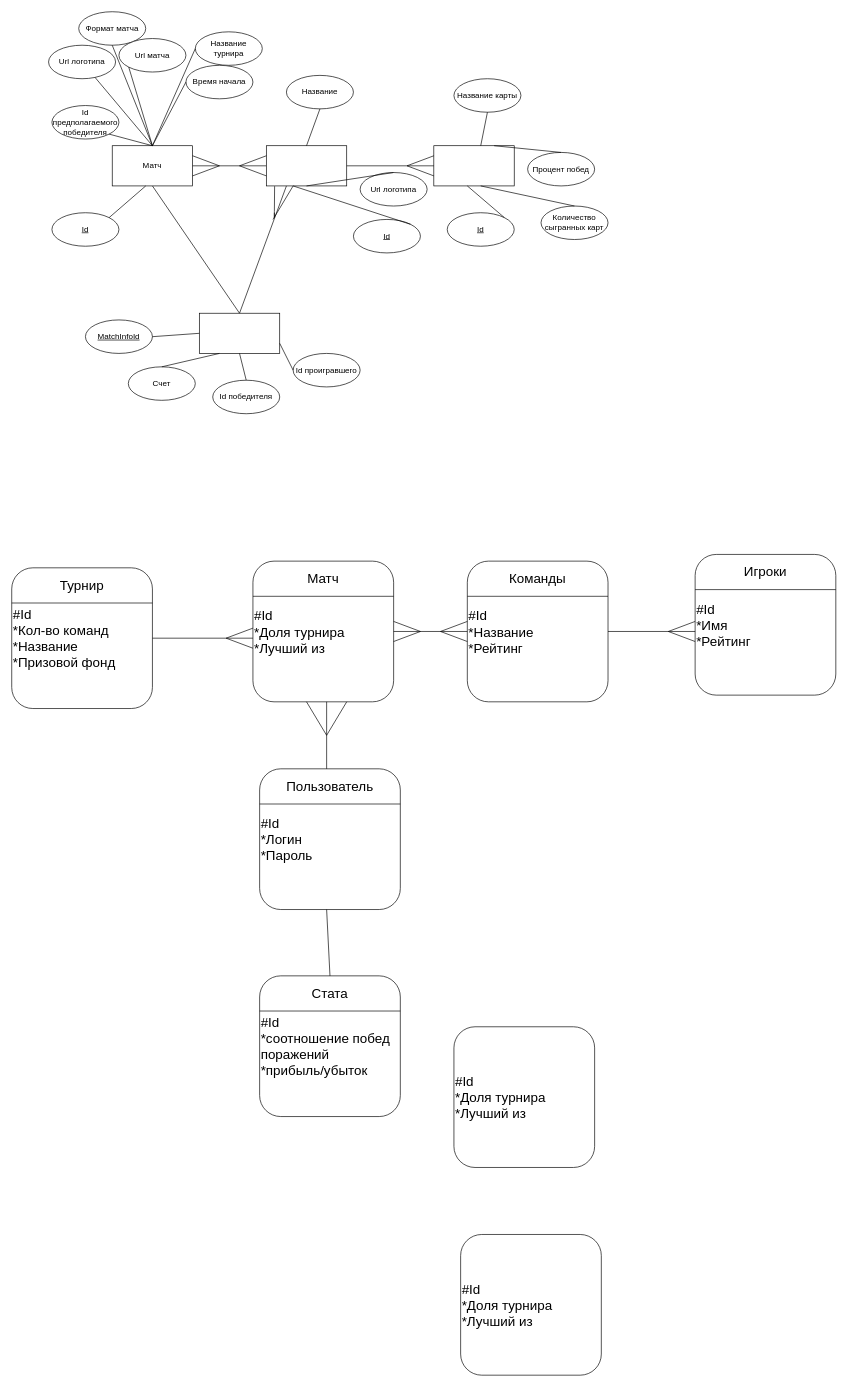
Image size: 848x1387. Some labels were removed from this diagram. Here are the shapes that lost their labels. From the top down, the centre of each, then its label:
At point (306, 165): "Команда".
At point (473, 165): "Статистика на карте".
At point (239, 333): "Результат матча".
